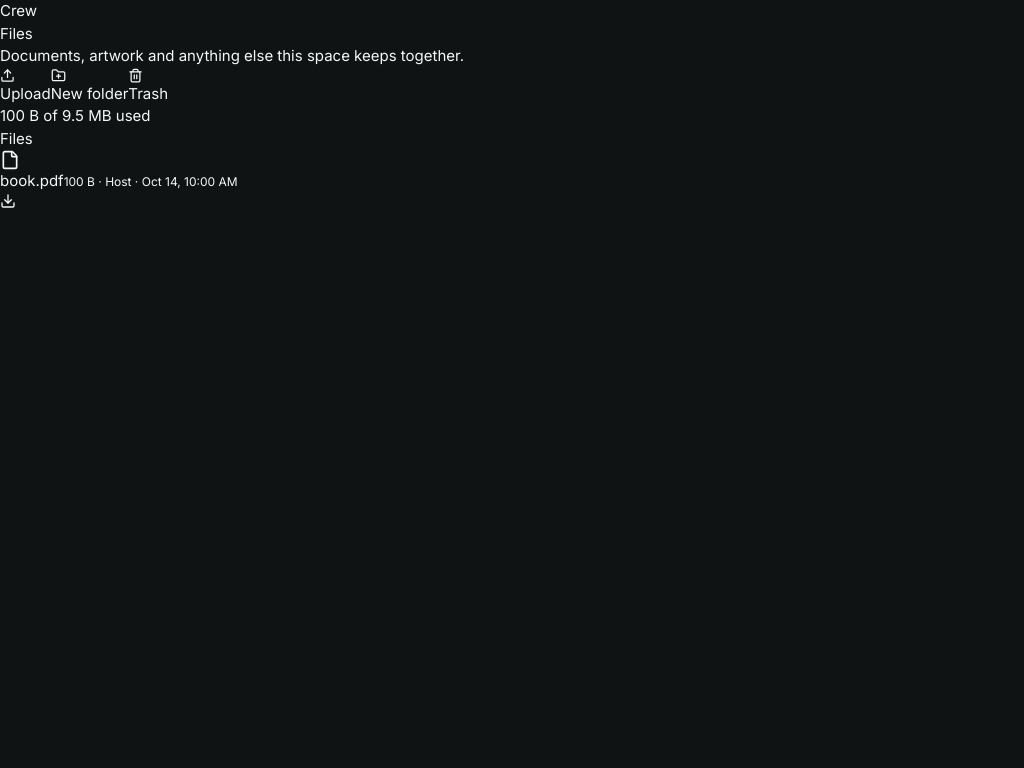
Test: offers editing only for small text files: book.pdf
Click the button "book.pdf".
click(32, 181)  # box [0,170,64,192]
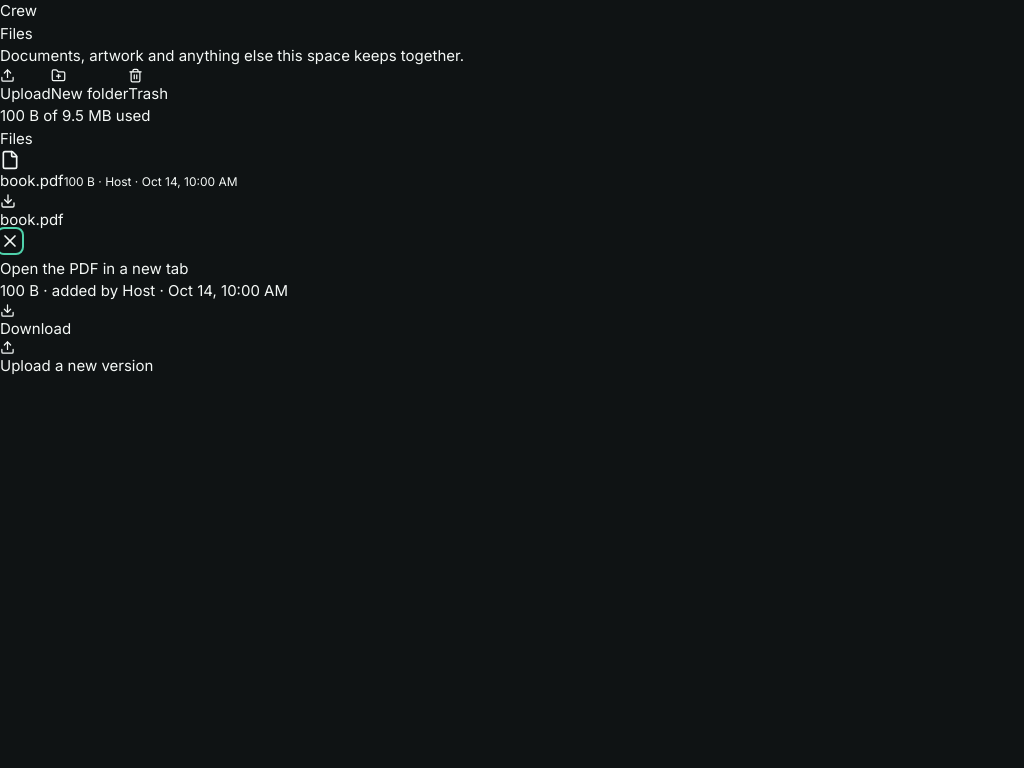
expect the dialog "book.pdf" is shown: met, box [0,210,288,375]
